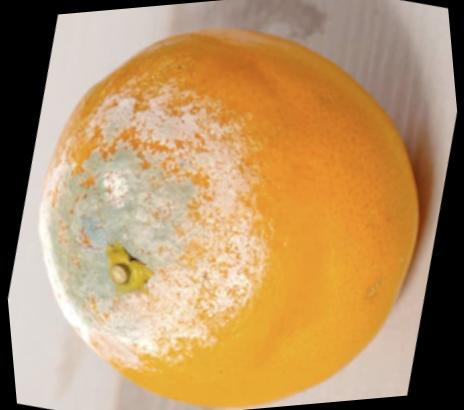Orange Rotten: (21, 6, 458, 410)
